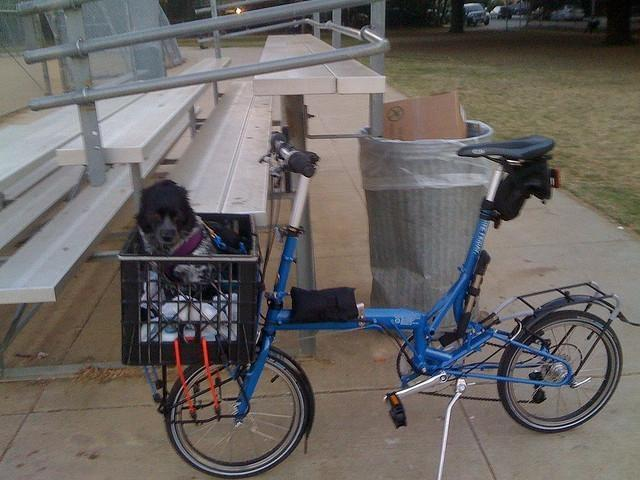bicycle: (118, 132, 632, 479)
car: (464, 2, 489, 28), (559, 10, 586, 22), (530, 8, 553, 20), (489, 6, 506, 20)
